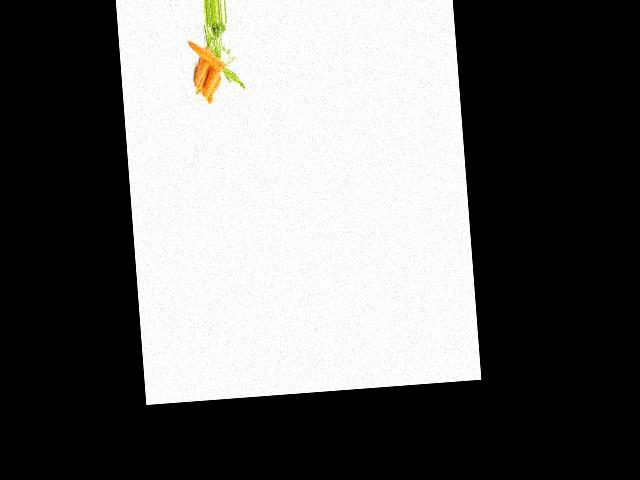carrot: (192, 44, 215, 91)
